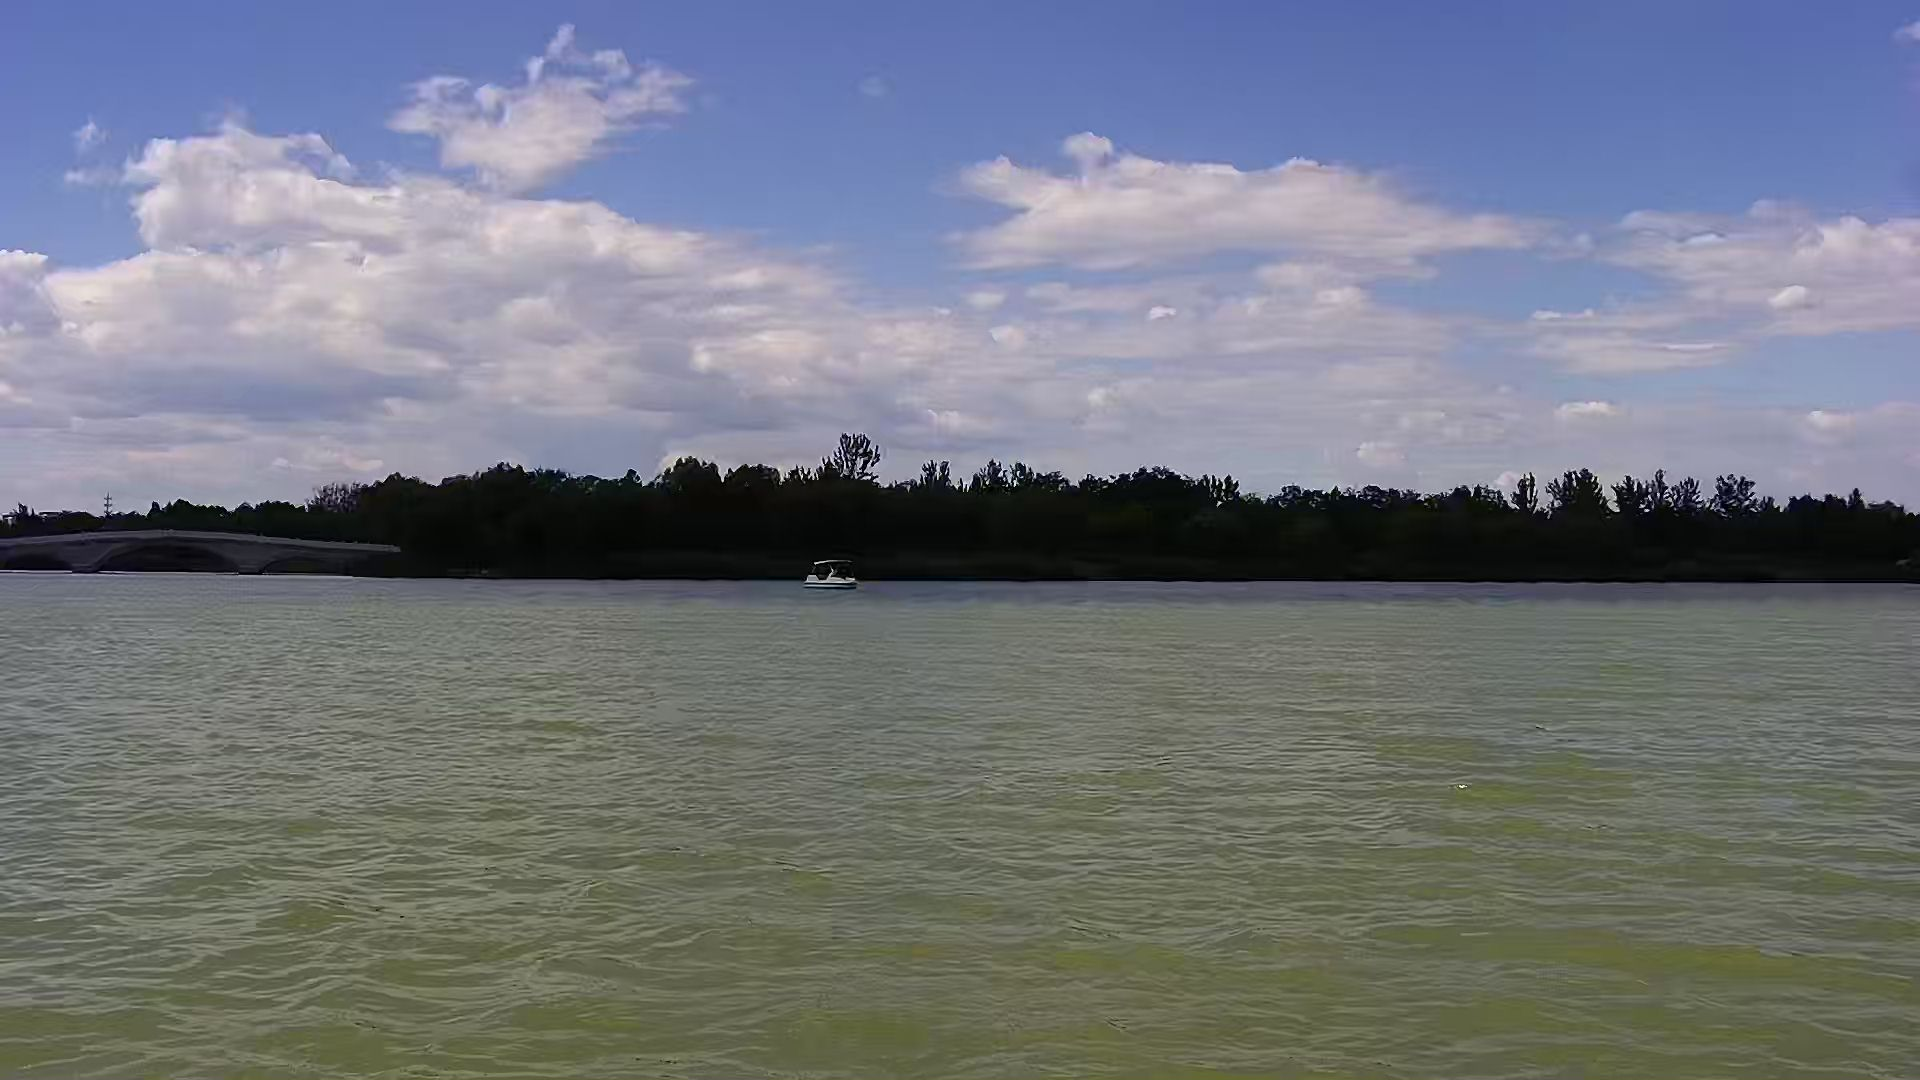boat: (800, 554, 866, 597)
bridge: (1, 526, 411, 582)
